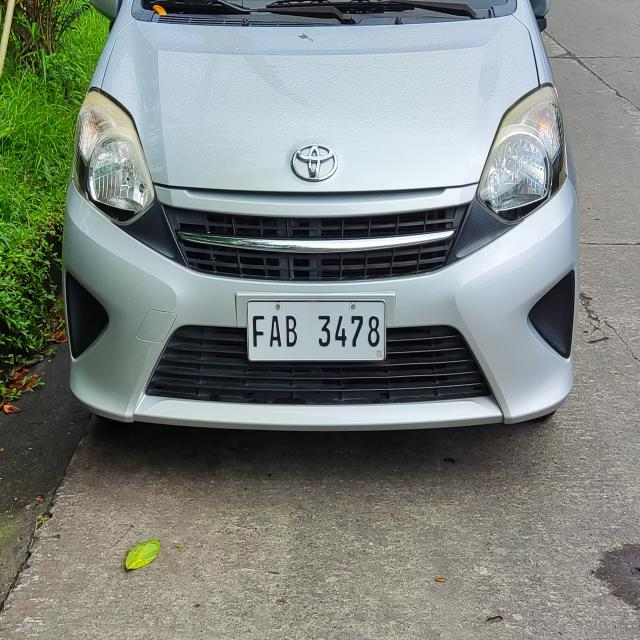plate: (245, 297, 387, 364)
